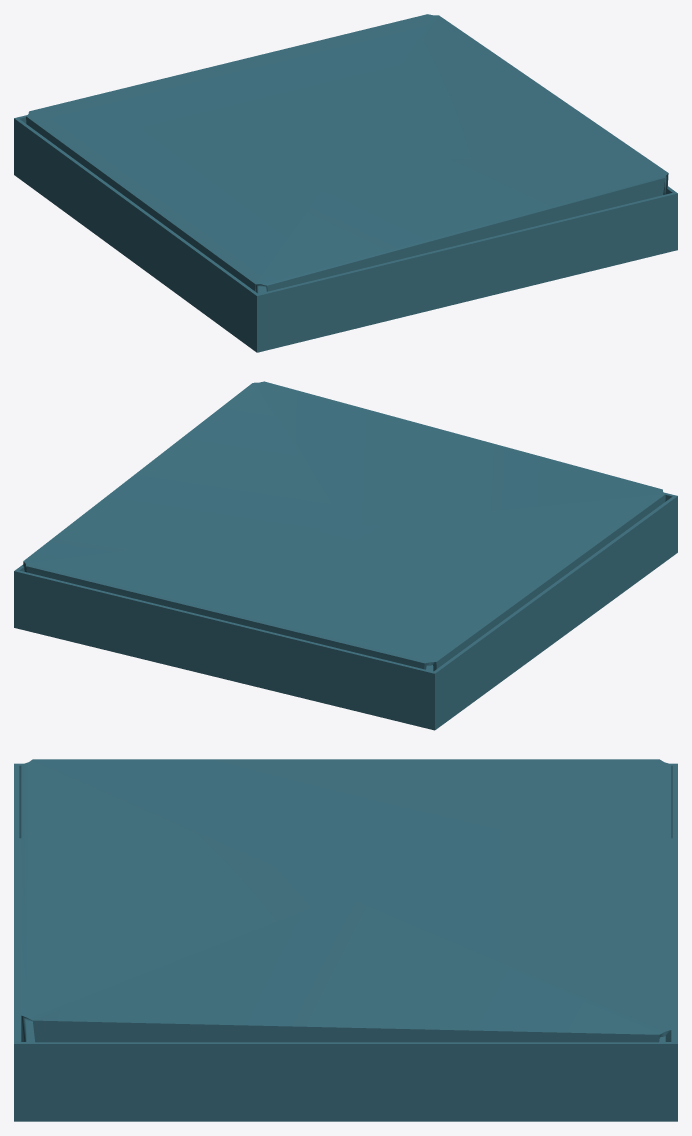
The model's file is SM_SmallTrashkit_PizzaBox_001.fbx.
The picture shows the model from 3 angles, top to bottom: view 1: azimuth 30°, elevation 25°; view 2: azimuth 150°, elevation 25°; view 3: azimuth 270°, elevation 25°; orthographic projection. The views are drawn at different scales.
Parts seen in each view (by area): view 1: SM_SmallTrashkit_PizzaBox_001; view 2: SM_SmallTrashkit_PizzaBox_001; view 3: SM_SmallTrashkit_PizzaBox_001.
Part boxes in pixels (x1=…): SM_SmallTrashkit_PizzaBox_001: x1=14, y1=14, x2=677, y2=352; SM_SmallTrashkit_PizzaBox_001: x1=14, y1=381, x2=677, y2=730; SM_SmallTrashkit_PizzaBox_001: x1=14, y1=759, x2=677, y2=1121.
Size of the model in its own units: 40.64 by 6.72 by 40.64.
